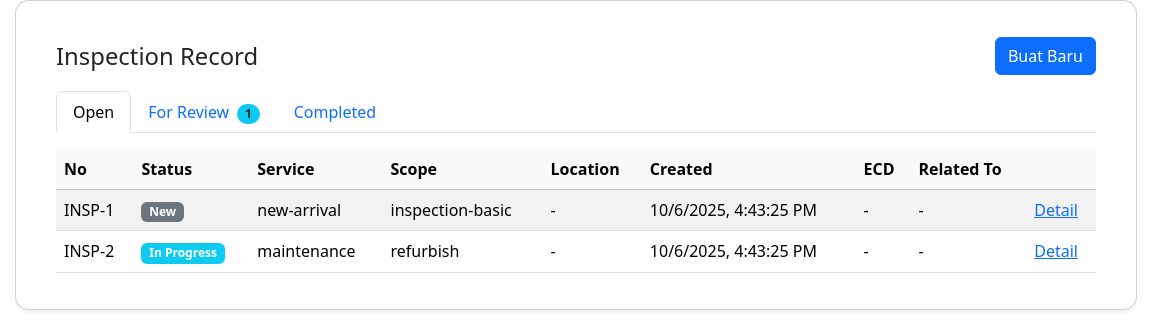
Test: Open/For Review/Completed tab filters rows correctly
Expected: the text "INSP-1" is shown, [56,190,133,231]
Expected: the text "INSP-2" is shown, [56,231,133,272]
Click the button "For Review 1" at (204, 112), box [131,91,277,133]
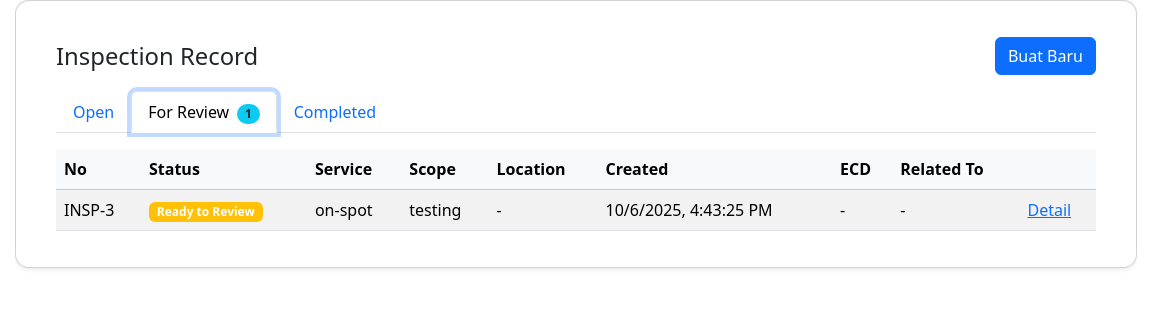
Expected: the text "INSP-3" is shown, [56,190,141,231]
Expected: the text "INSP-1" is gone
Click the button "Completed" at (335, 112), box [277,91,393,133]
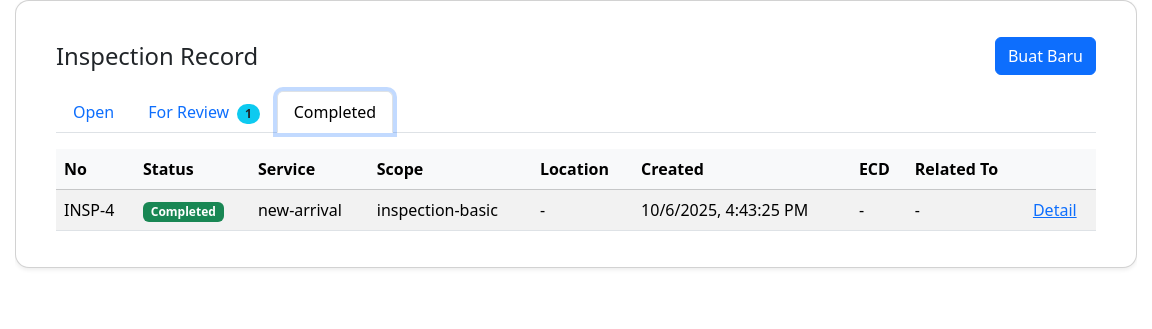
Expected: the text "INSP-4" is shown, [56,190,135,231]
Expected: the text "INSP-3" is gone
